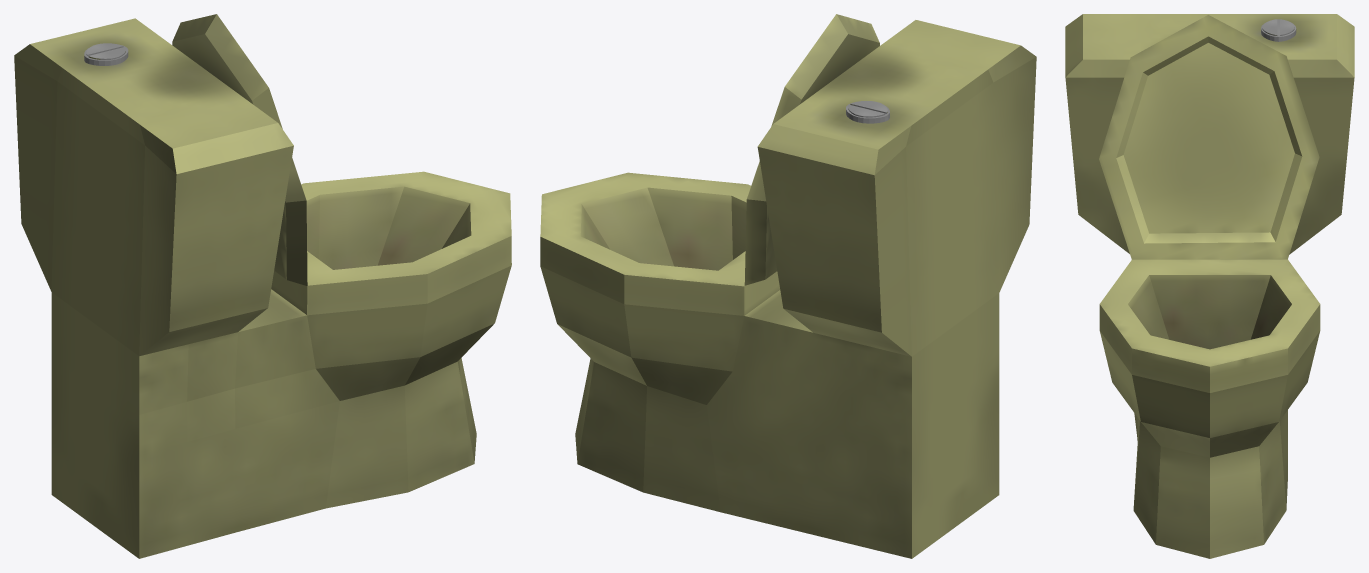
The model's file is toilet_open.fbx.
3 renders of one model, left to right at view 1: azimuth 30°, elevation 25°; view 2: azimuth 150°, elevation 25°; view 3: azimuth 270°, elevation 25°, orthographic. The views are drawn at different scales.
Parts seen in each view (by area): view 1: toilet_open; view 2: toilet_open; view 3: toilet_open.
Part boxes in pixels (x1,y1,x2,y2): toilet_open: (14, 14, 511, 558); toilet_open: (540, 14, 1036, 558); toilet_open: (1065, 14, 1354, 558).
Bounding box in the file's own units: 0.9558 × 1.07 × 0.6478.
Materials: 1 (1 with a texture image).
